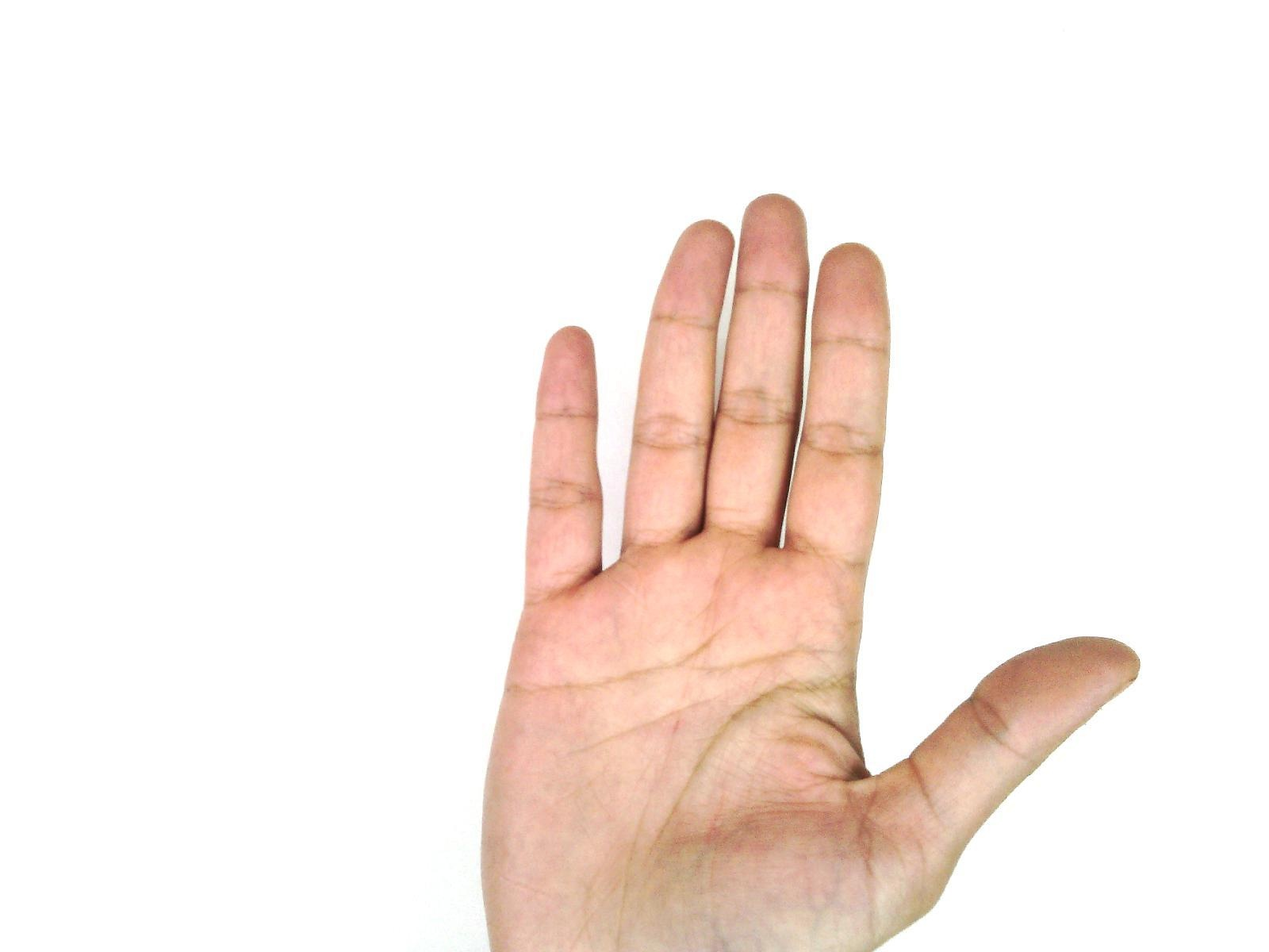open_palm: (476, 192, 1143, 952)
